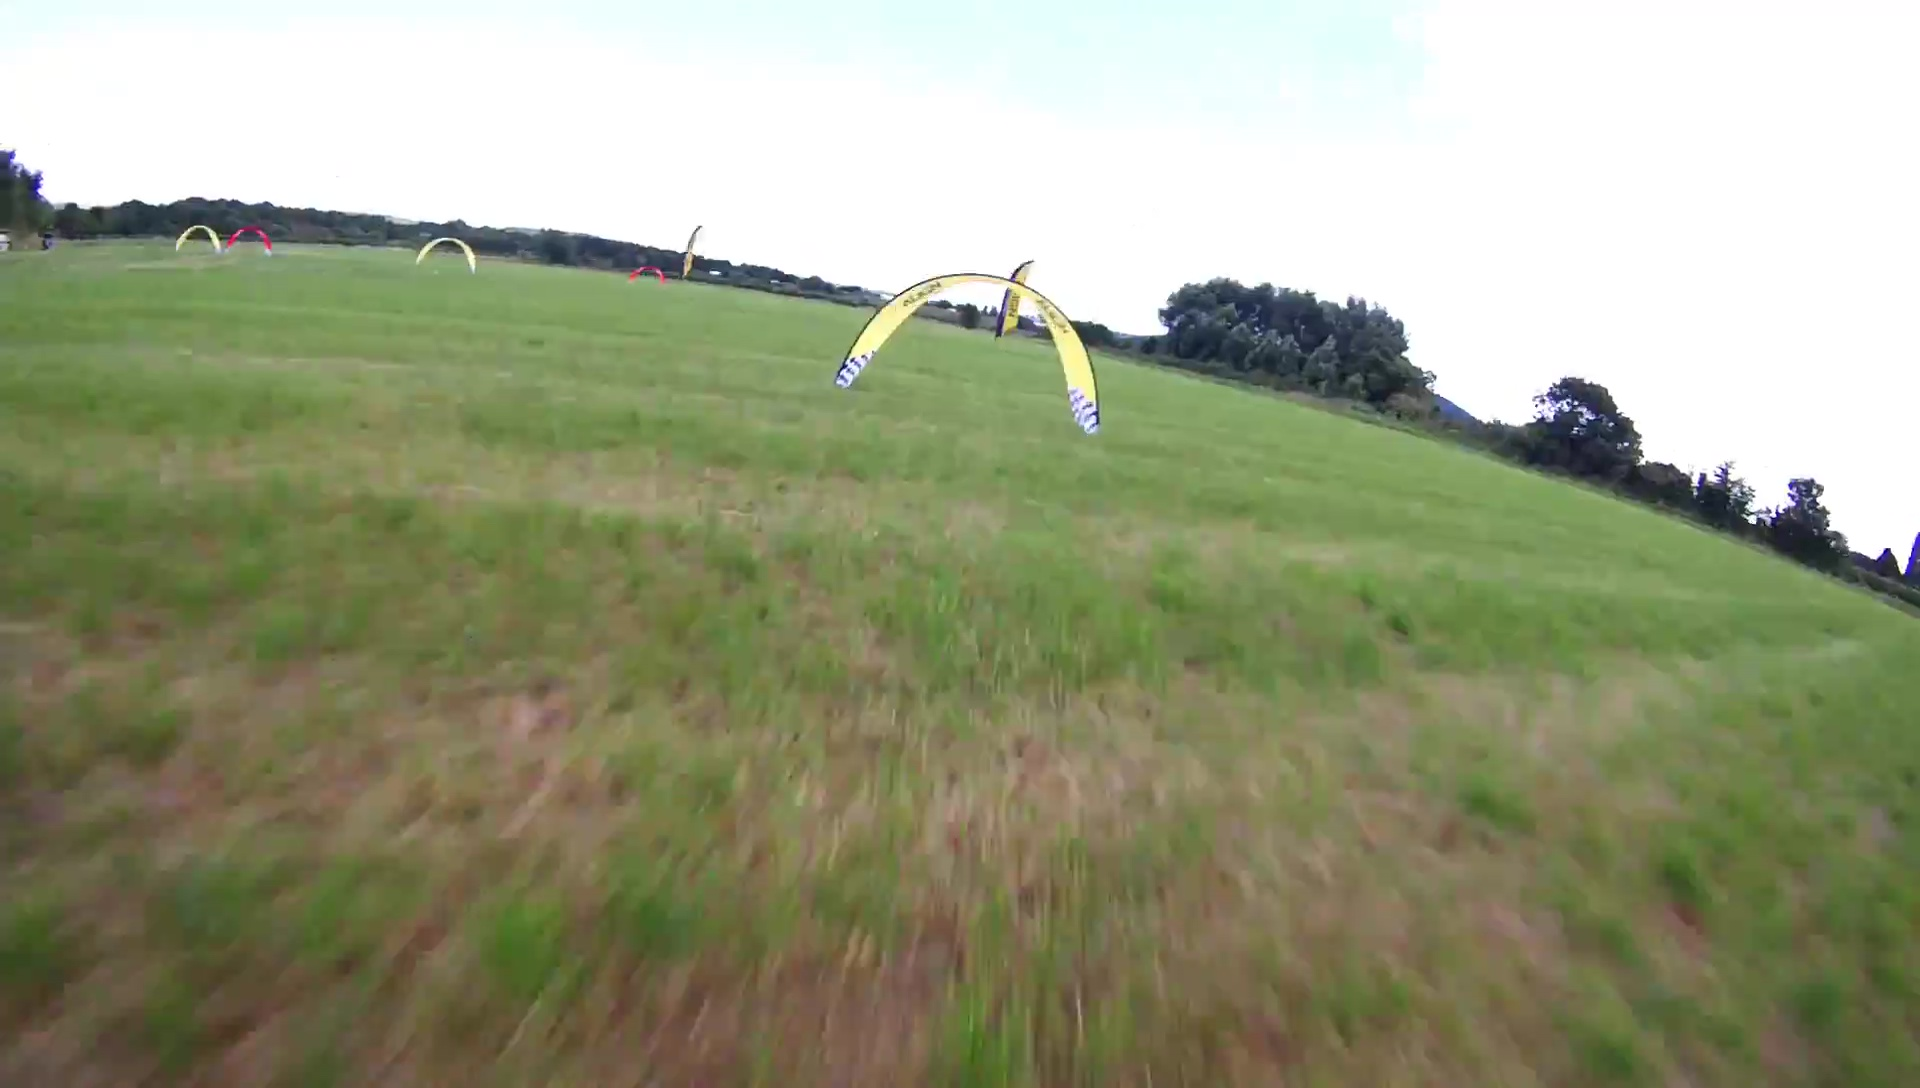gate: (829, 269, 1104, 437), (413, 236, 479, 276), (223, 226, 274, 256), (174, 226, 223, 256)
